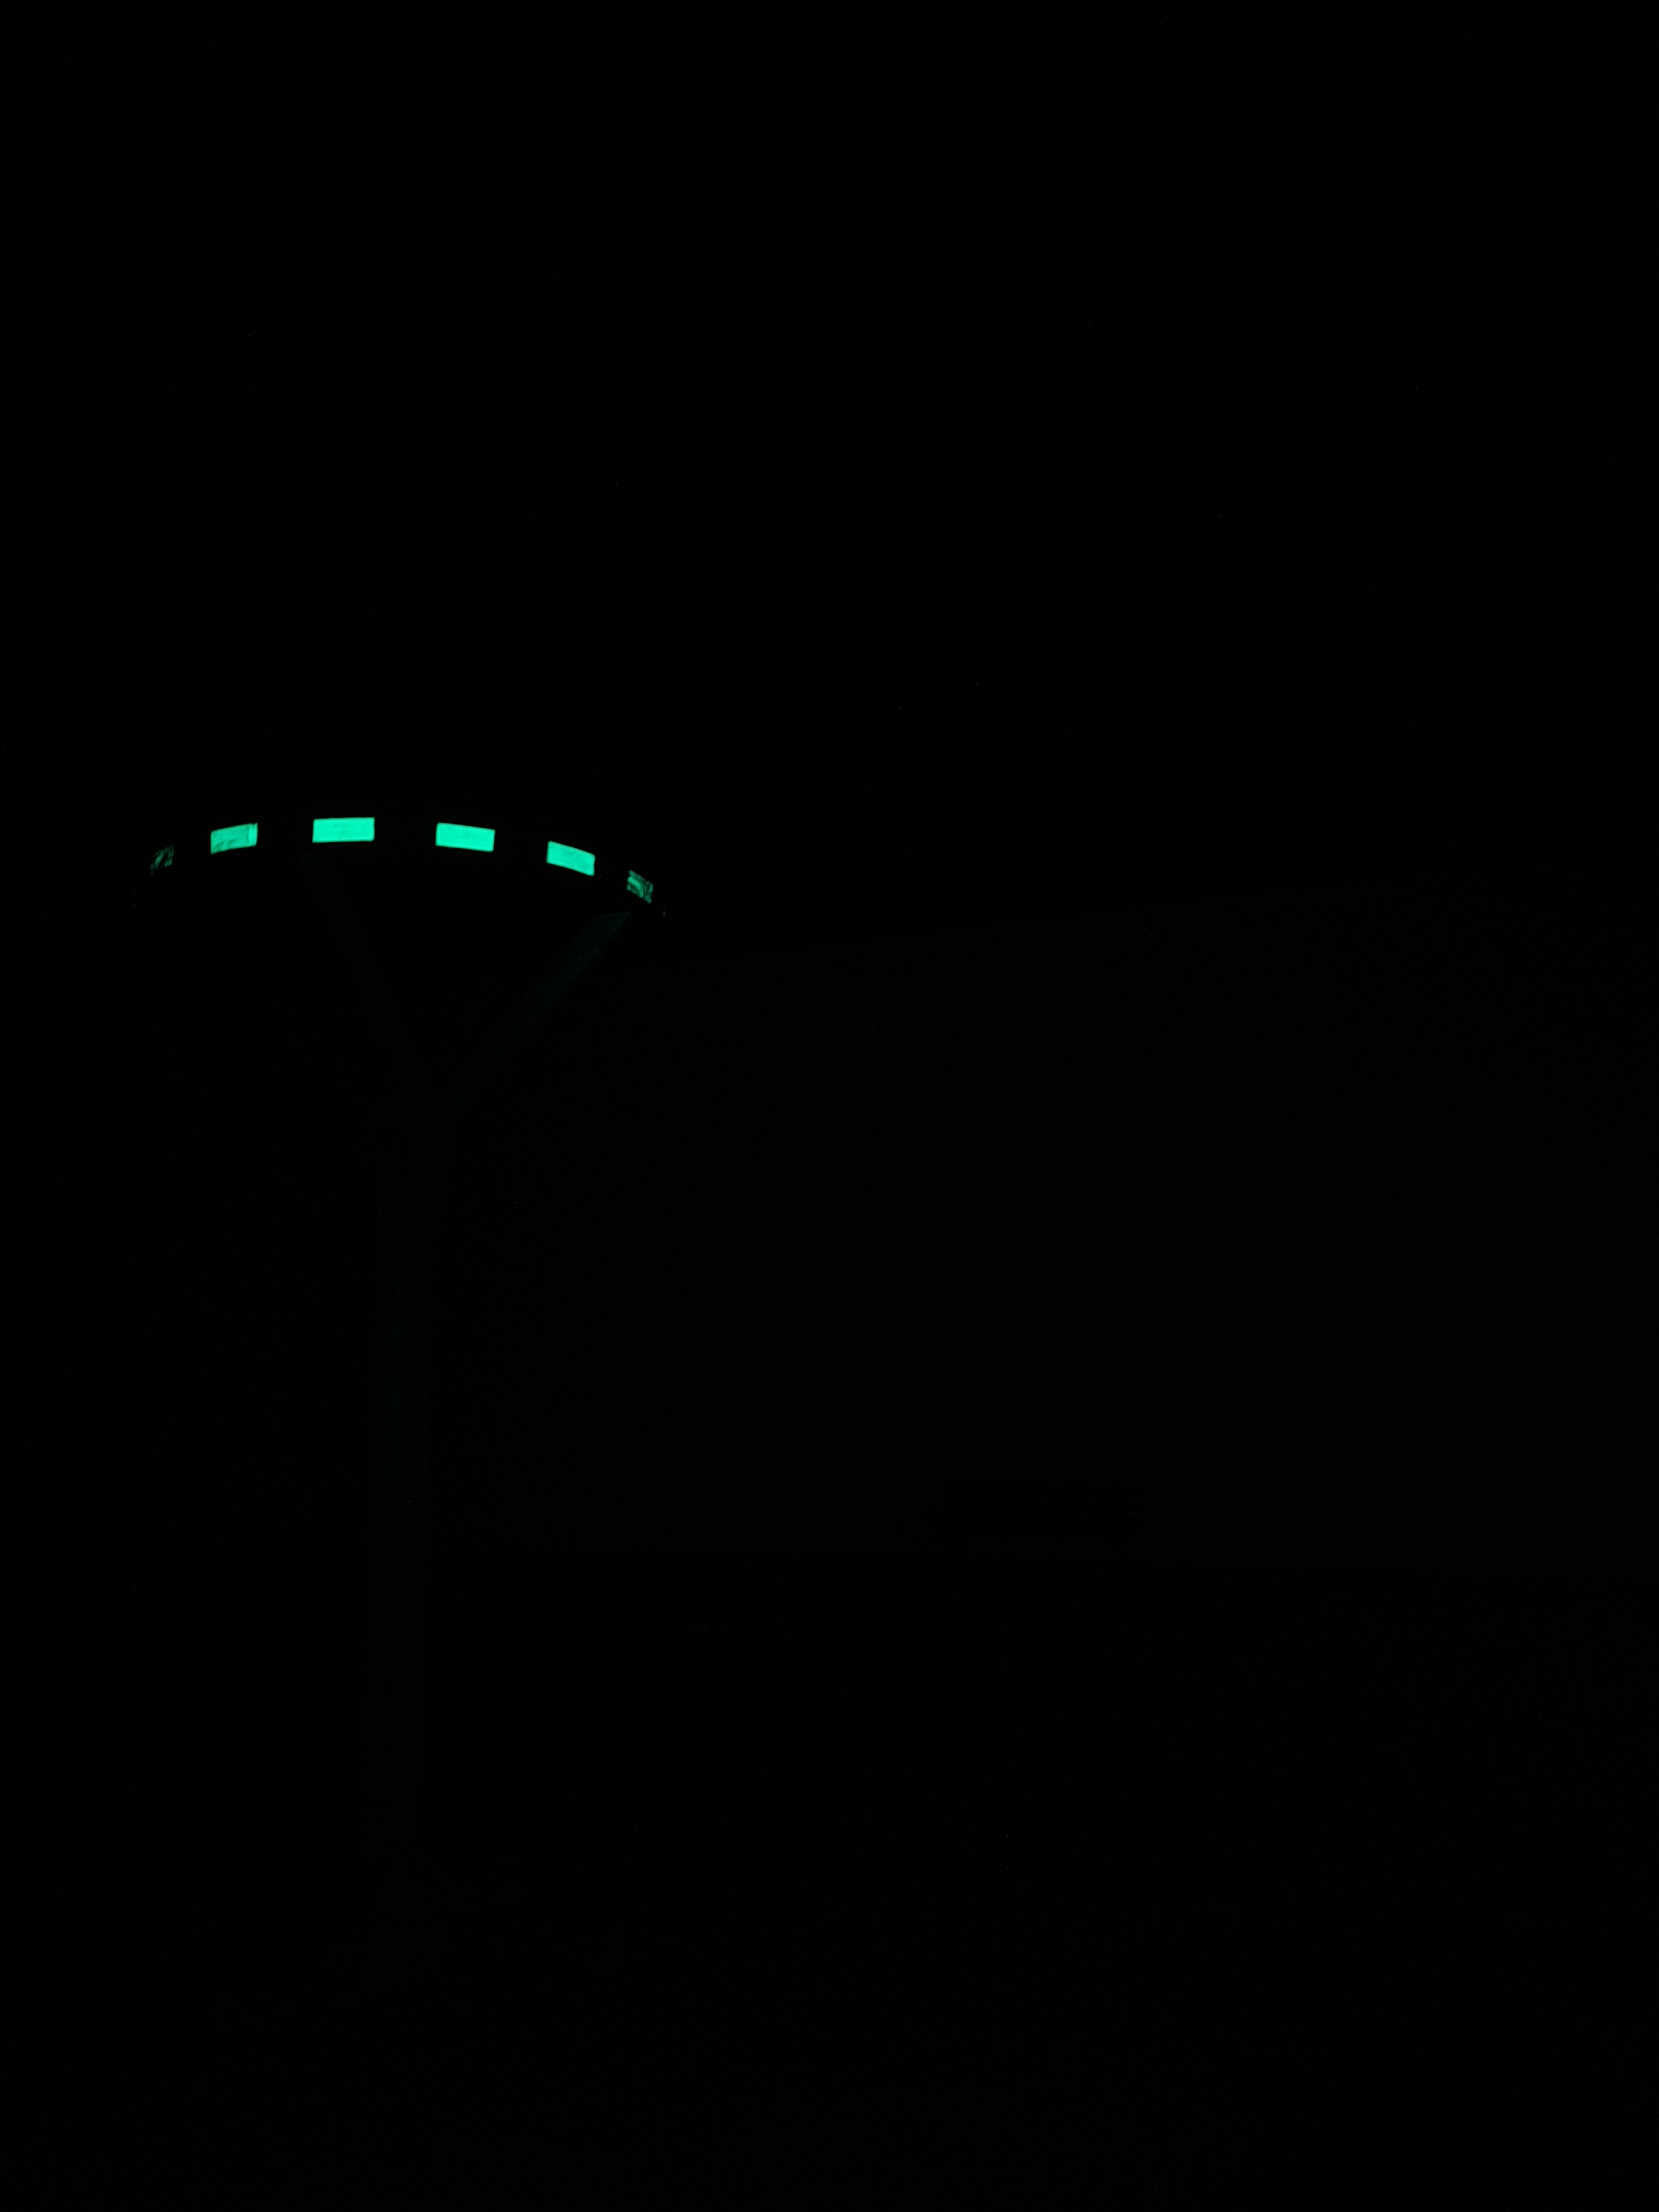hoop: (120, 813, 674, 928)
